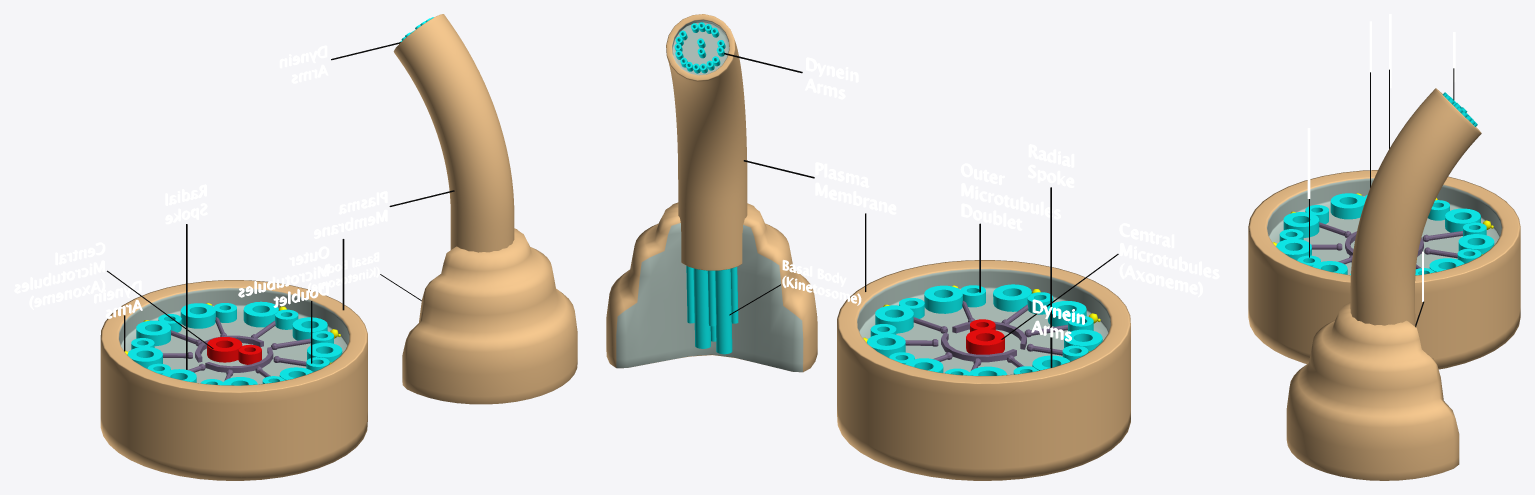
The model's file is structure_of_cilia.glb.
3 renders of one model, left to right at view 1: azimuth 30°, elevation 25°; view 2: azimuth 150°, elevation 25°; view 3: azimuth 270°, elevation 25°, orthographic. The views are drawn at different scales.
Parts seen in each view (by area): view 1: pCylinder1, pCylinder11, pCylinder12, main4, main2, typeMesh2, pPipe5, pPipe41, pPipe3, main, pPipe37, main3 (+4 smaller); view 2: pCylinder1, pCylinder11, pCylinder12, main4, main2, pPipe24, typeMesh2, pPipe27, pPipe5, main, pPipe45, pPipe3 (+6 smaller); view 3: pCylinder1, pCylinder11, pCylinder12, pPipe33, pPipe31, pPipe42, pPipe41, pPipe35, pPipe37, pPipe43, pPipe45.
Boxes of the visible parts, left/top/right/bottom form: pCylinder1: left=100, top=280, right=367, bottom=480; pCylinder11: left=402, top=228, right=577, bottom=404; pCylinder12: left=393, top=14, right=514, bottom=252; main4: left=14, top=242, right=105, bottom=309; main2: left=238, top=246, right=329, bottom=307; typeMesh2: left=314, top=191, right=387, bottom=238; pPipe5: left=195, top=335, right=273, bottom=372; pPipe41: left=180, top=303, right=215, bottom=328; pPipe3: left=207, top=337, right=242, bottom=362; main: left=308, top=252, right=379, bottom=292; pPipe37: left=243, top=301, right=278, bottom=327; main3: left=165, top=184, right=207, bottom=224; pCylinder1: left=837, top=260, right=1130, bottom=480; pCylinder11: left=606, top=202, right=817, bottom=372; pCylinder12: left=666, top=14, right=747, bottom=270; main4: left=1119, top=223, right=1219, bottom=297; main2: left=960, top=163, right=1060, bottom=230; pPipe24: left=715, top=269, right=732, bottom=354; typeMesh2: left=815, top=162, right=896, bottom=214; pPipe27: left=693, top=268, right=710, bottom=348; pPipe5: left=941, top=321, right=1026, bottom=362; main: left=782, top=260, right=861, bottom=305; pPipe45: left=924, top=285, right=962, bottom=313; pPipe3: left=966, top=329, right=1004, bottom=354; pCylinder1: left=1248, top=170, right=1520, bottom=369; pCylinder11: left=1286, top=302, right=1459, bottom=480; pCylinder12: left=1350, top=88, right=1481, bottom=326; pPipe33: left=1330, top=193, right=1365, bottom=219; pPipe31: left=1283, top=212, right=1319, bottom=237; pPipe42: left=1445, top=208, right=1480, bottom=232; pPipe41: left=1458, top=234, right=1494, bottom=254; pPipe35: left=1276, top=238, right=1311, bottom=260; pPipe37: left=1429, top=258, right=1464, bottom=272; pPipe43: left=1428, top=200, right=1449, bottom=220; pPipe45: left=1312, top=261, right=1347, bottom=274.
Bounding box in the file's own units: 0.3652 × 0.2123 × 0.1547.
7 materials, 1 textured.
